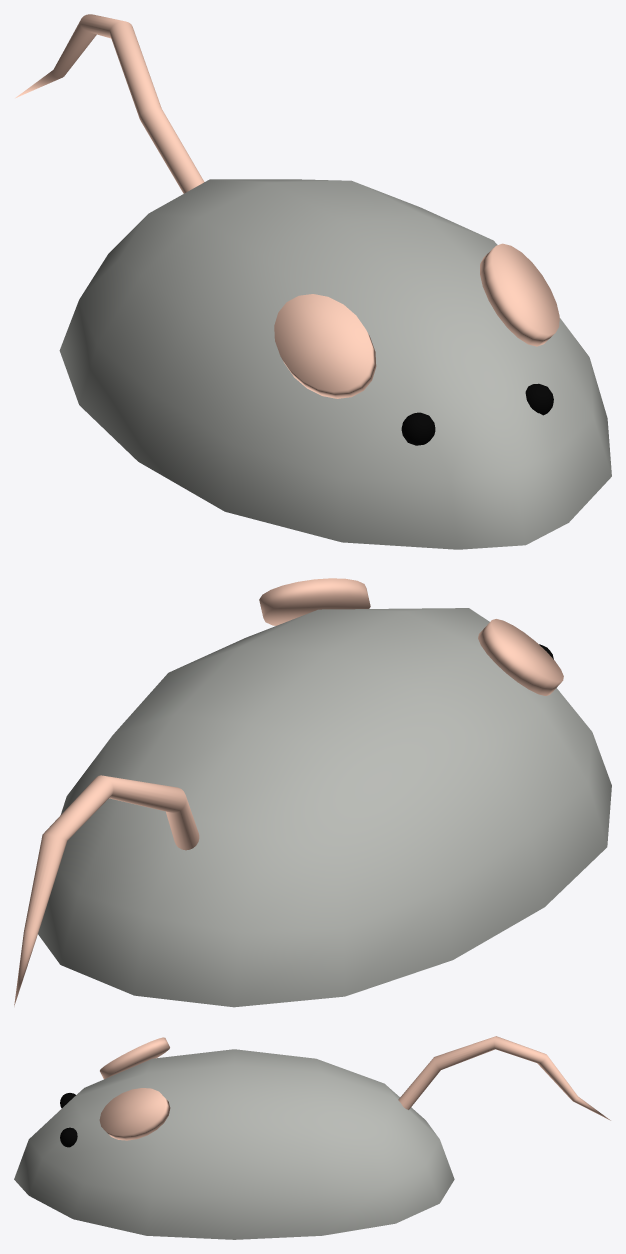
File: mouse_prt.fbx
3 renders of one model, top to bottom at view 1: azimuth 30°, elevation 25°; view 2: azimuth 150°, elevation 25°; view 3: azimuth 270°, elevation 25°, orthographic. The views are drawn at different scales.
Visible parts, largest first — view 1: pCube5; view 2: pCube5; view 3: pCube5.
Boxes of the visible parts, left/top/right/bottom form: pCube5: left=15, top=14, right=611, bottom=549; pCube5: left=14, top=578, right=611, bottom=1007; pCube5: left=14, top=1036, right=610, bottom=1239.
Bounding box in the file's own units: 1.84 × 1 × 3.85.
